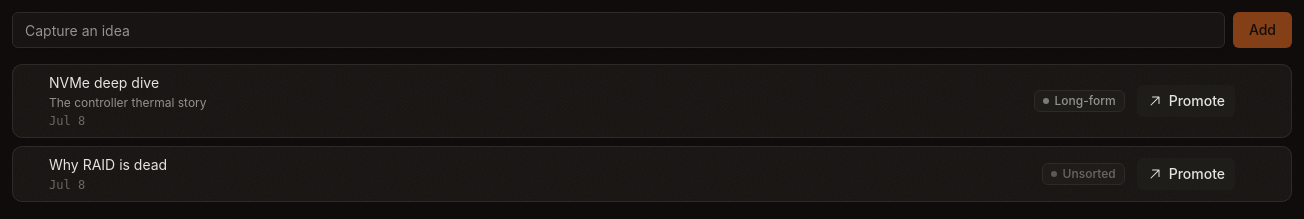
Test: BacklogView › promotes an idea and removes its row
expect the text "Why RAID is dead" is shown: met, box top-left (49, 155), bottom-right (167, 175)
Click the button "Promote" next to "Unsorted": (1186,174) top-left (1137, 158), bottom-right (1235, 190)
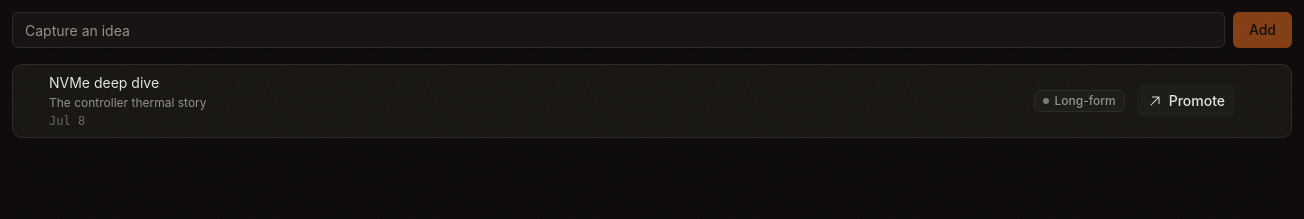
expect the button "Why RAID is dead" is gone: met
